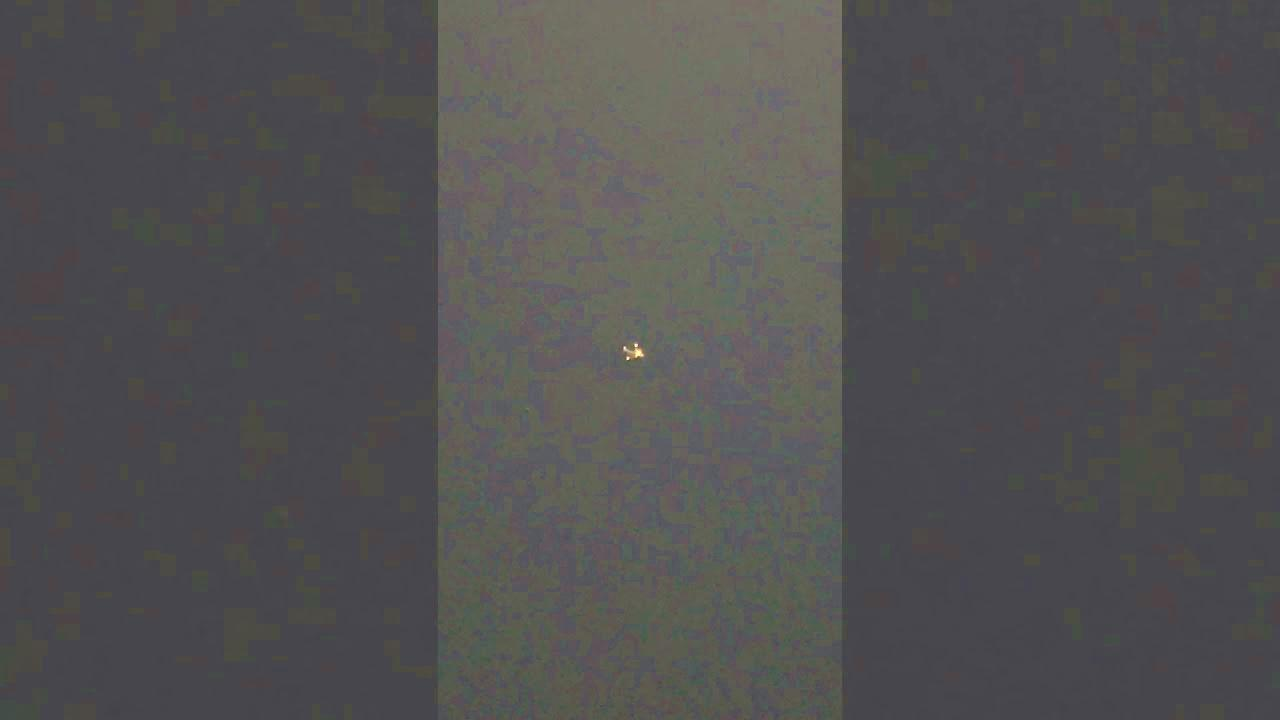Plane: (597, 309, 662, 380)
